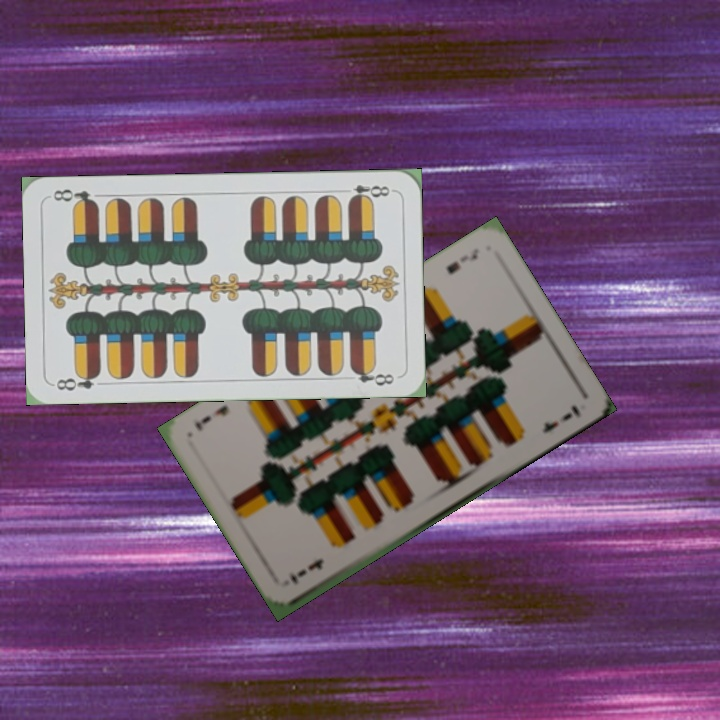E7: (286, 554, 326, 588), (442, 244, 482, 277)
E8: (337, 181, 396, 204), (52, 368, 103, 394)
